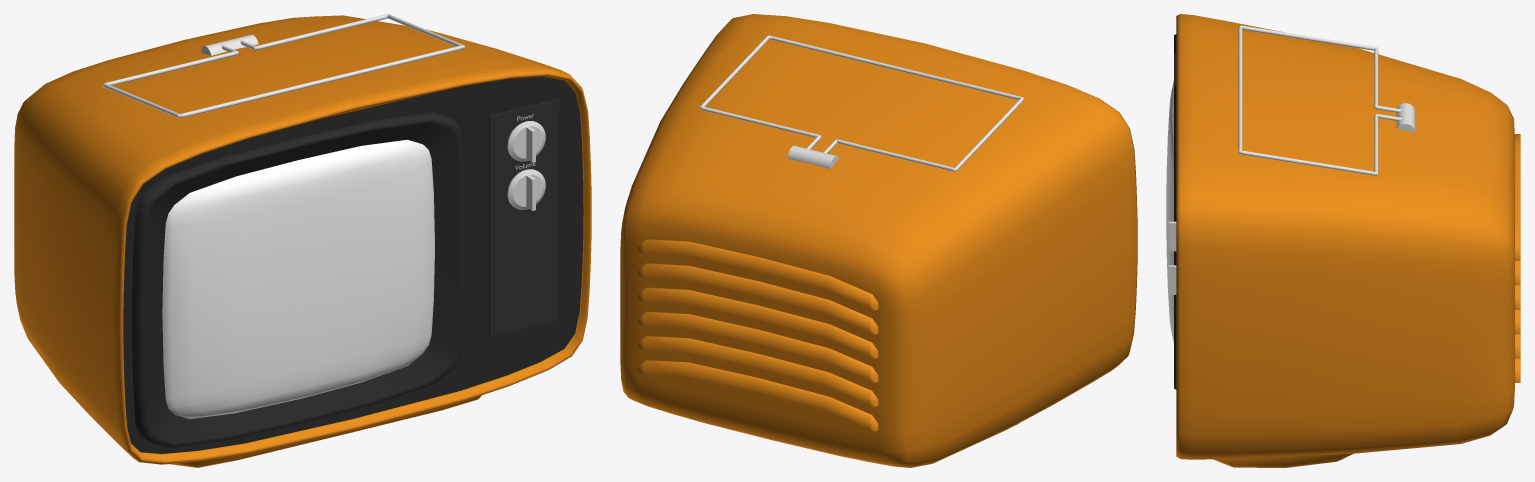
File: television.gltf
3 renders of one model, left to right at view 1: azimuth 30°, elevation 25°; view 2: azimuth 150°, elevation 25°; view 3: azimuth 270°, elevation 25°, orthographic. The views are drawn at different scales.
Parts seen in each view (by area): view 1: corpusGLTF, screenGLTF, frontGLTF, panelGLTF, antennaGLTF, powerKnobGLTF, volumeKnobGLTF; view 2: corpusGLTF, antennaGLTF, antennaFootGLTF; view 3: corpusGLTF, antennaGLTF, screenGLTF, frontGLTF, antennaFootGLTF.
Boxes of the visible parts, box(x1,y1,x2,y2) form: corpusGLTF: box(14, 15, 591, 467); screenGLTF: box(162, 139, 434, 418); frontGLTF: box(123, 76, 583, 453); panelGLTF: box(489, 99, 559, 336); antennaGLTF: box(102, 14, 465, 118); powerKnobGLTF: box(507, 121, 545, 162); volumeKnobGLTF: box(507, 169, 545, 210); corpusGLTF: box(620, 14, 1137, 467); antennaGLTF: box(699, 35, 1024, 171); antennaFootGLTF: box(787, 145, 839, 168); corpusGLTF: box(1176, 14, 1520, 467); antennaGLTF: box(1238, 25, 1402, 175); screenGLTF: box(1166, 80, 1173, 342); frontGLTF: box(1174, 34, 1176, 389); antennaFootGLTF: box(1396, 103, 1415, 132).
Size of the model in its own units: 49.96 by 34.97 by 36.
